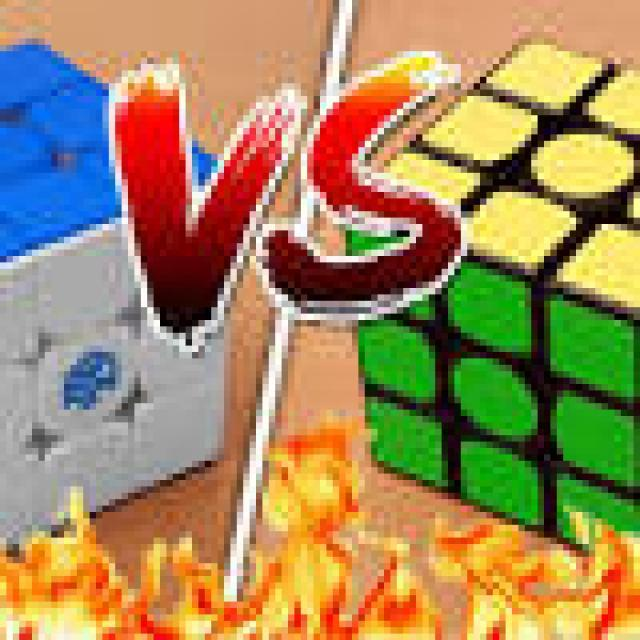Rub: (351, 25, 636, 562), (2, 41, 228, 560)
